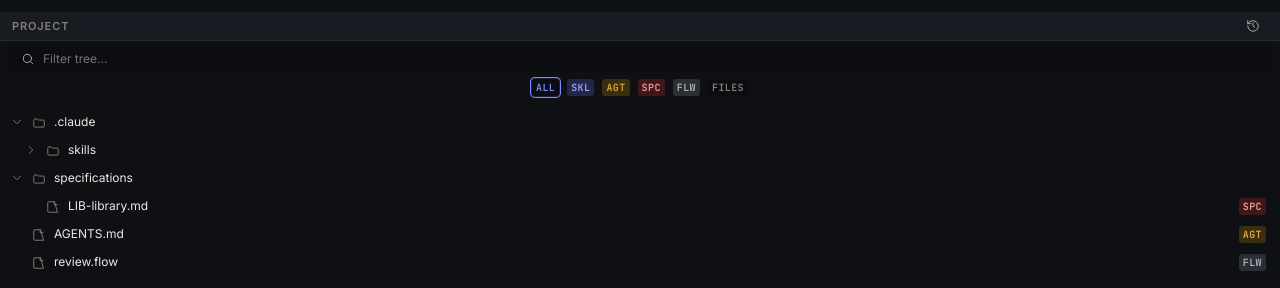
Test: persisted panel state (LIB-FR-14 … LIB-FR-17) › does not write when the state returns to what was persisted
Expected: the text "LIB-library.md" is shown, 68,198 -> 148,213
# Collapse and re-expand within the coalescing window.
Click the text "specifications": coordinates (94, 178) 54,170 -> 133,185
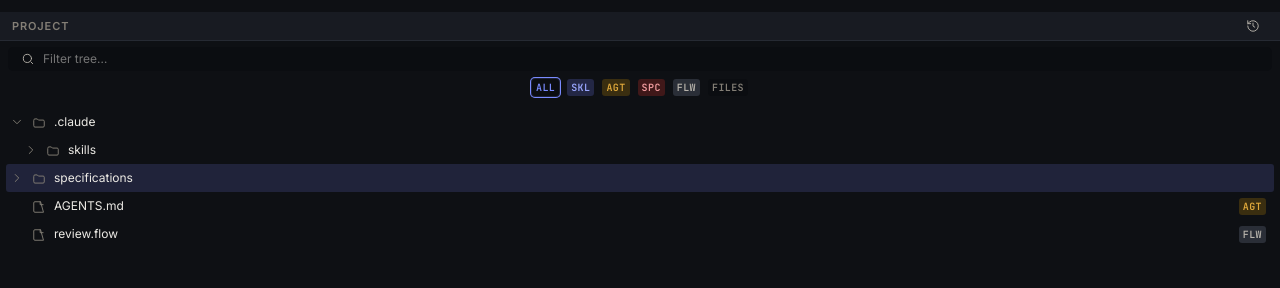
Click the text "specifications": coordinates (94, 178) 54,170 -> 133,185
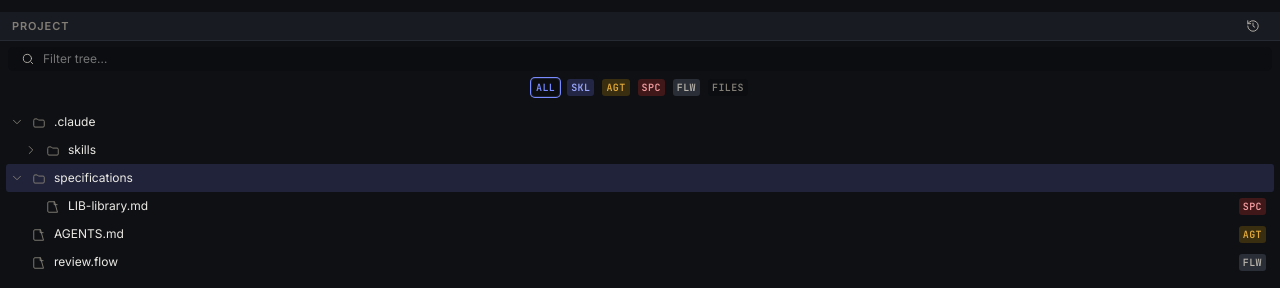
Now the text "LIB-library.md" is shown, box 68,198 -> 148,213
